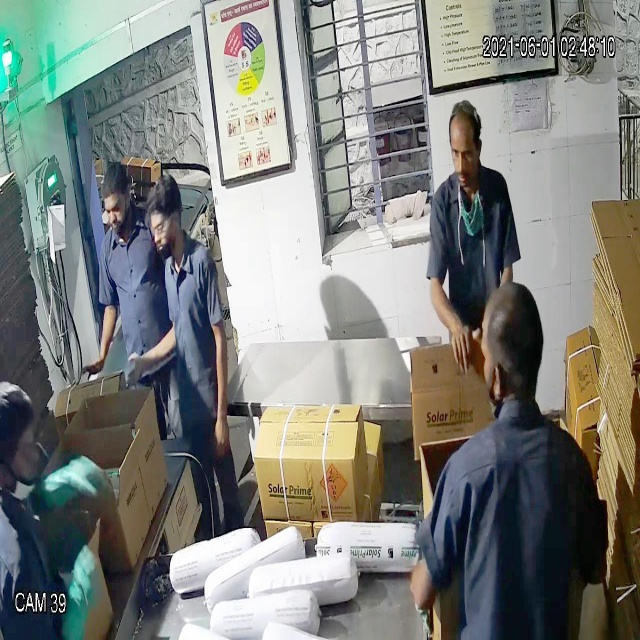Gafas: (148, 212, 183, 240)
Sin_gafas: (443, 140, 486, 171), (96, 198, 136, 222)
